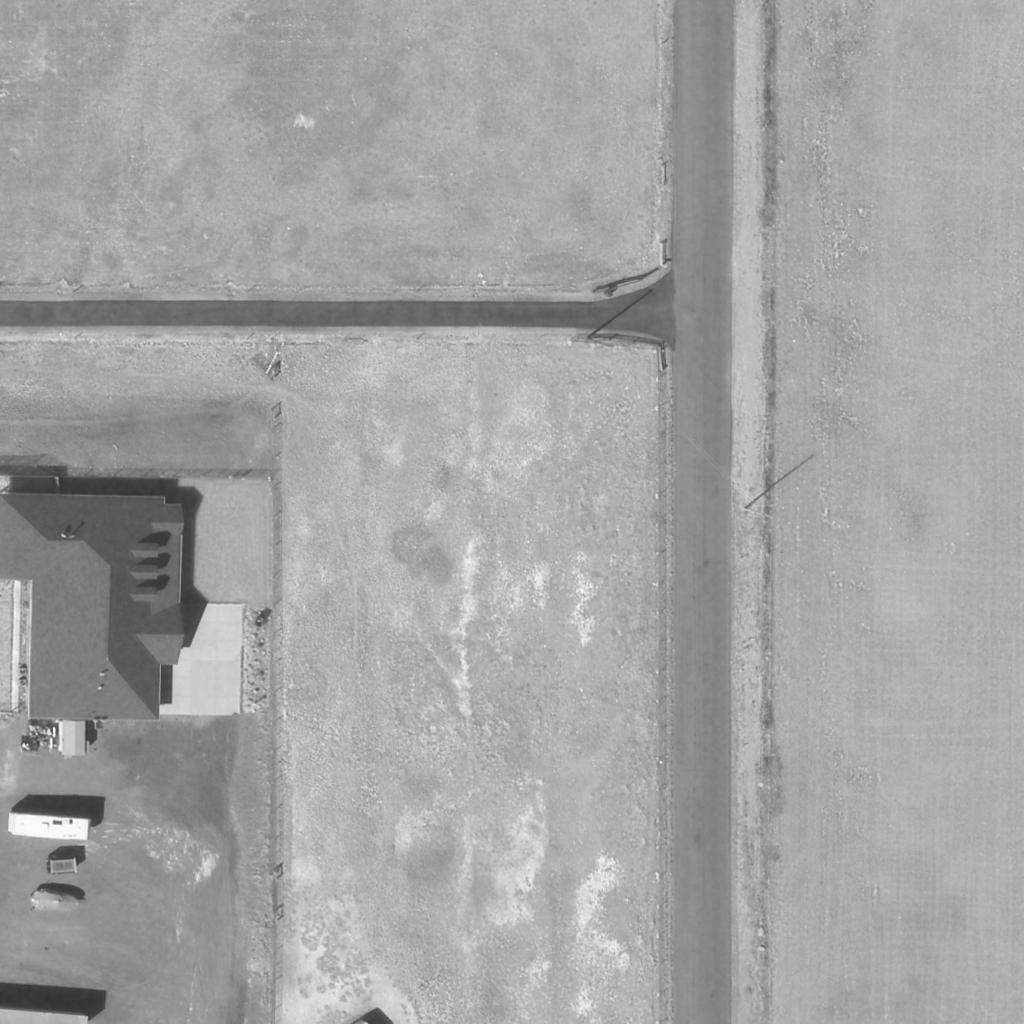vehicle: (6, 812, 92, 842), (32, 887, 80, 913)
